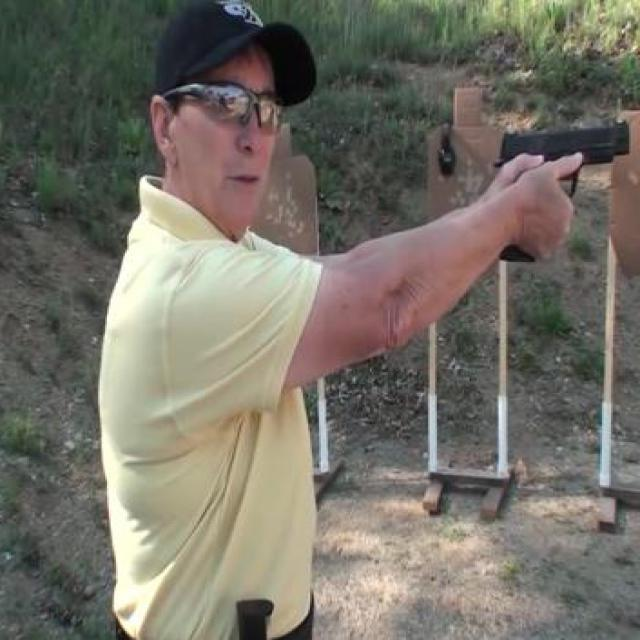Gun: (494, 120, 636, 262)
